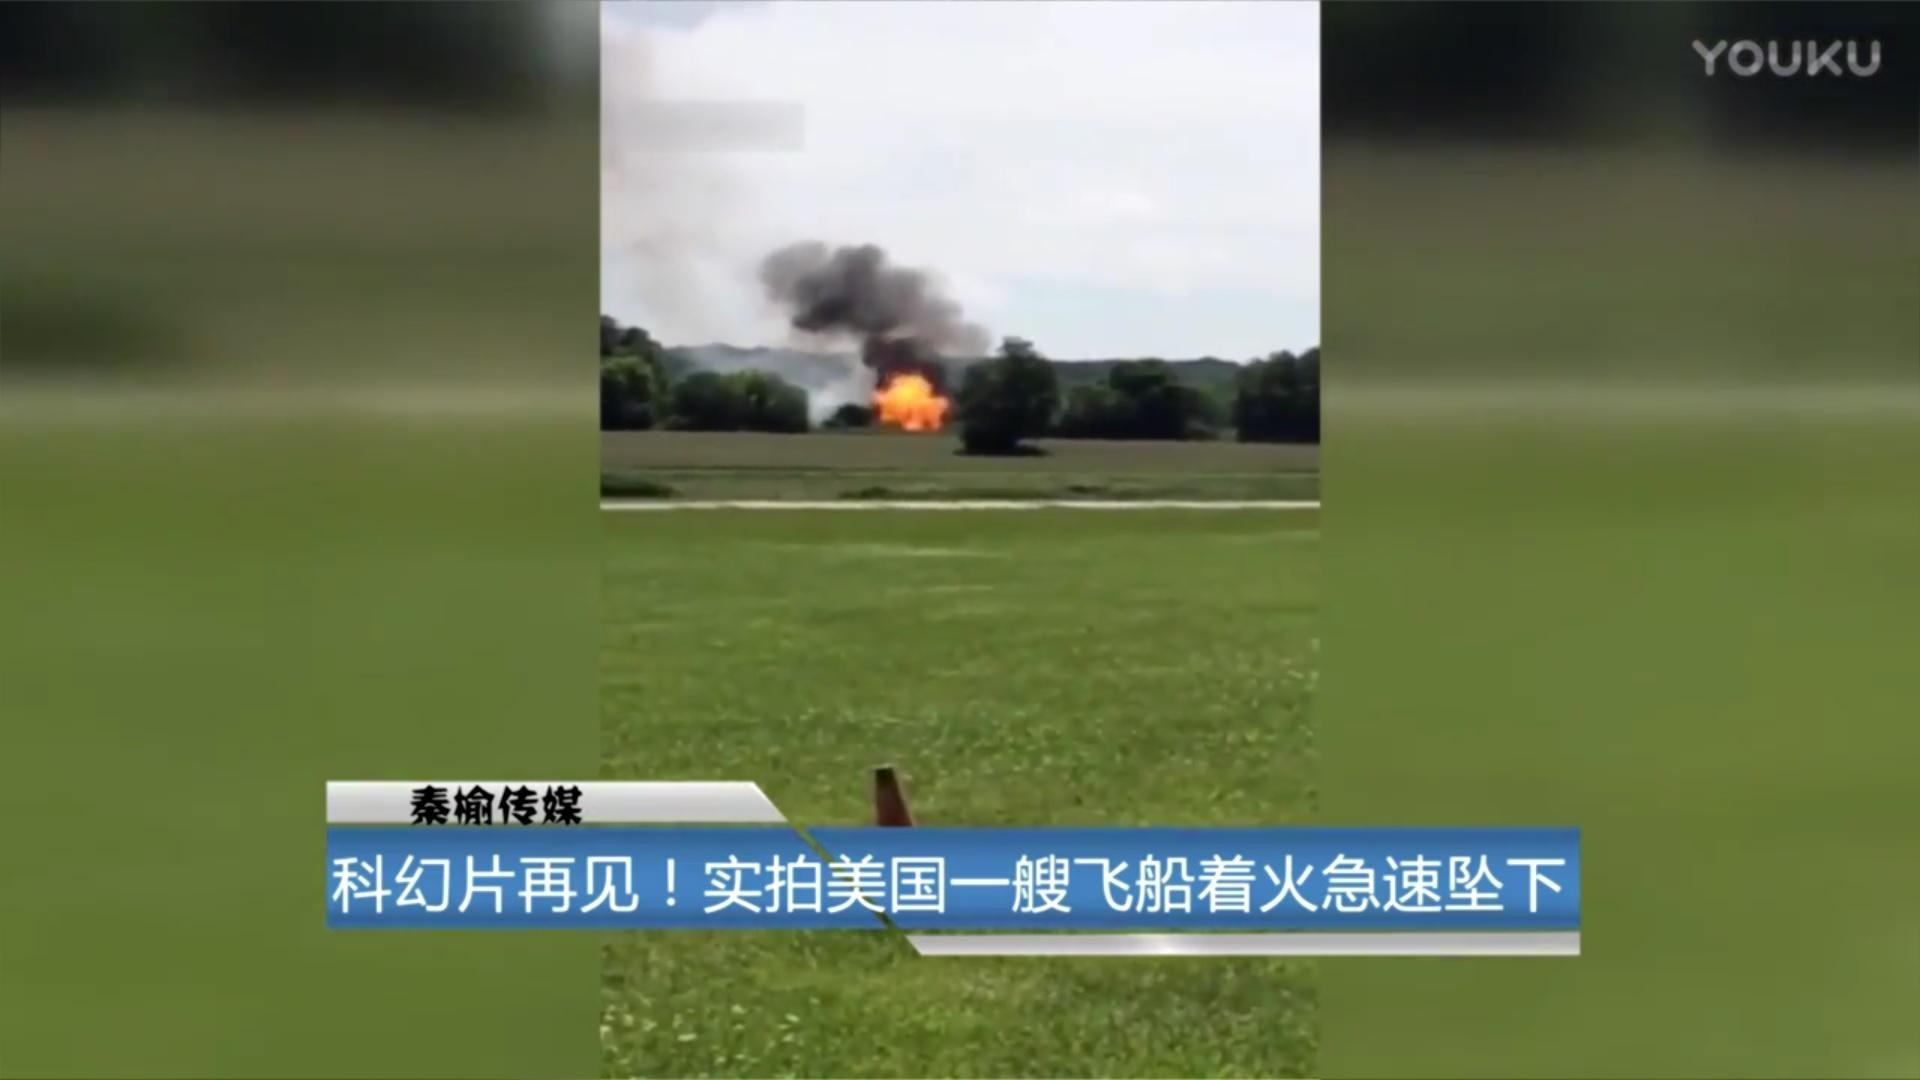fire: (868, 367, 955, 433)
